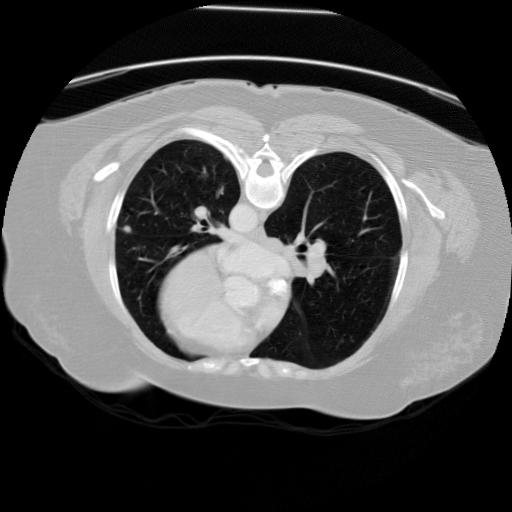nodule: (122, 223, 136, 237)
